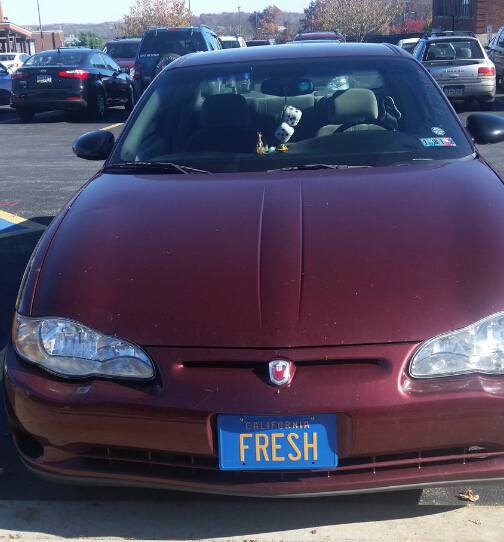license plate: (215, 409, 340, 476)
